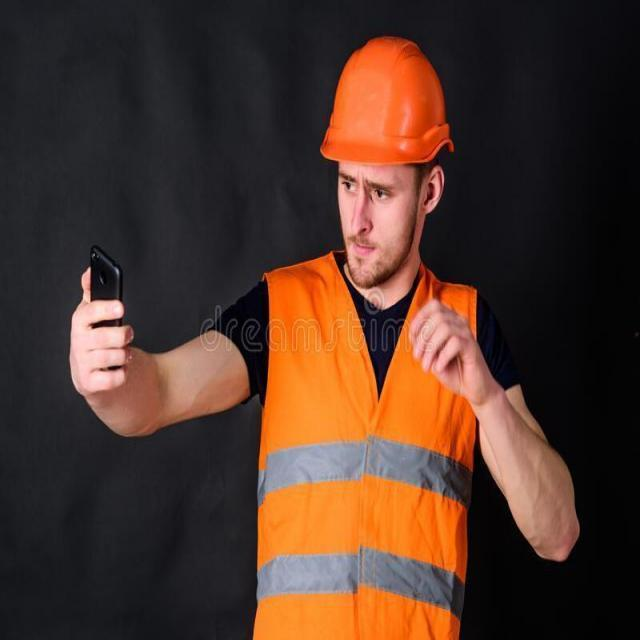hat: (320, 31, 456, 169)
